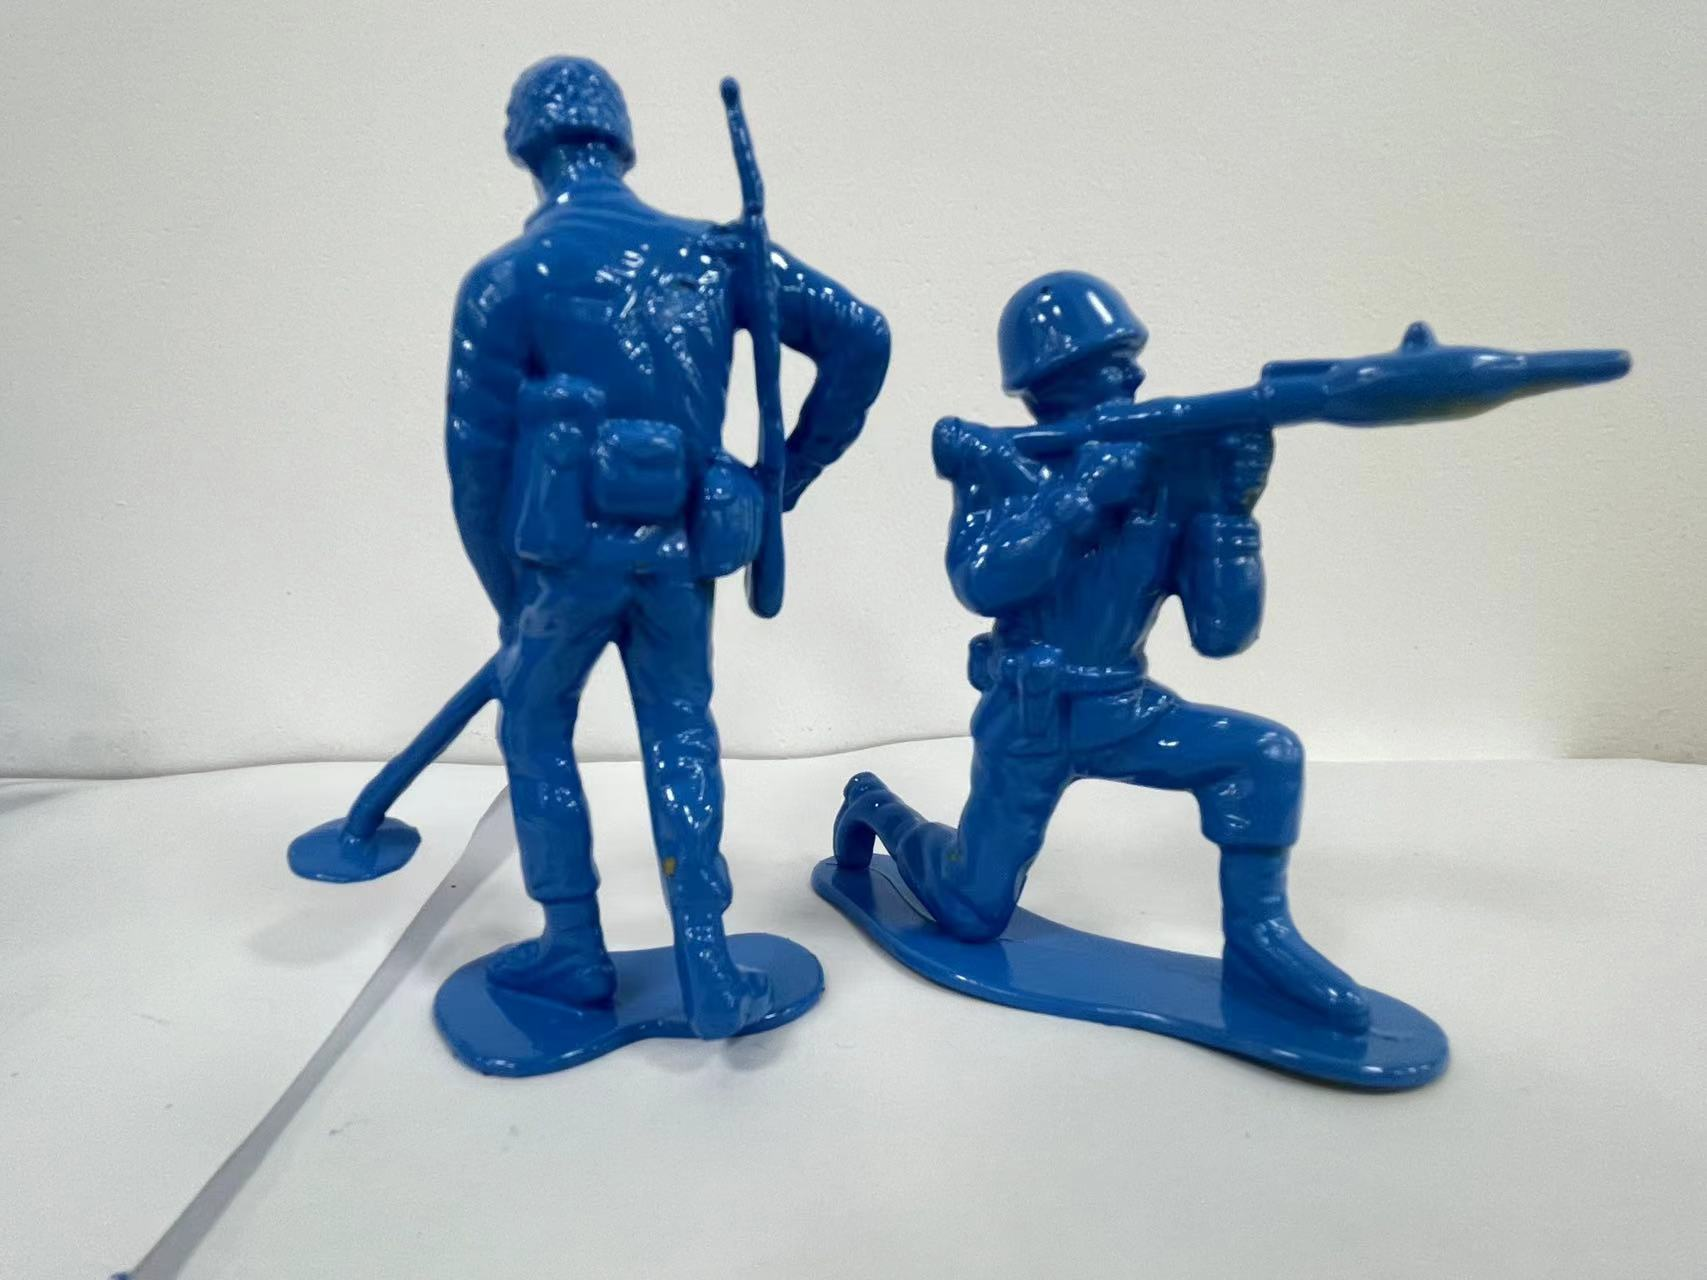blue: (856, 243, 1653, 1152), (306, 43, 871, 1133)
